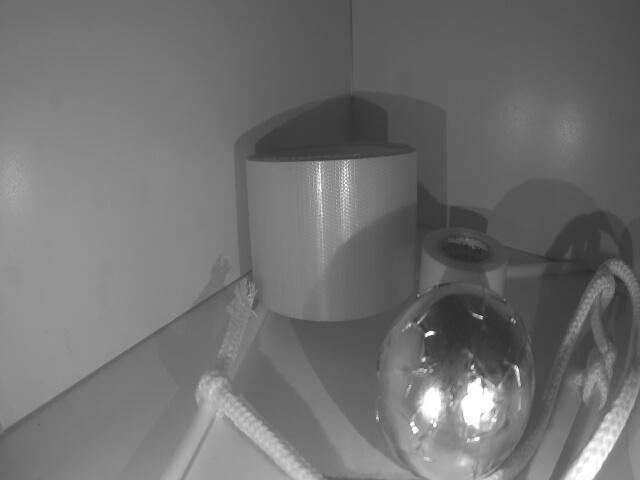Live: (382, 278, 536, 480)
